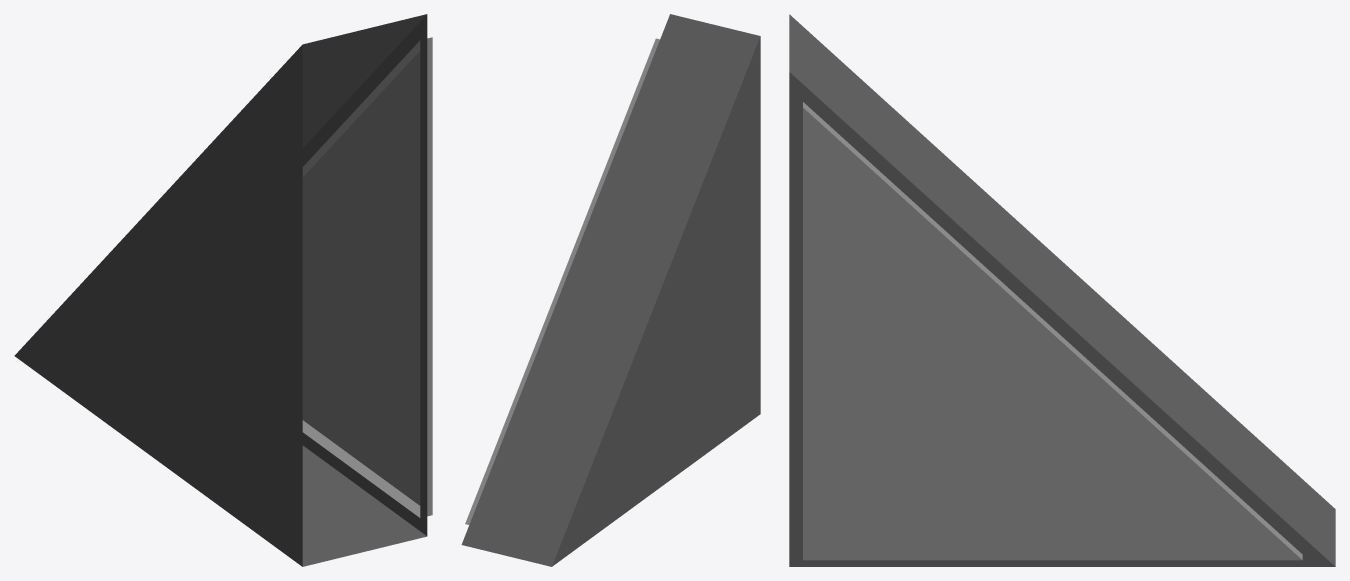
Rendered from Building_Deco_04_Triangle.FBX.
The picture shows the model from 3 angles, left to right: view 1: azimuth 30°, elevation 25°; view 2: azimuth 150°, elevation 25°; view 3: azimuth 270°, elevation 25°; orthographic projection. The views are drawn at different scales.
Parts seen in each view (by area): view 1: Building_Deco_04_Triangle_LOD0; view 2: Building_Deco_04_Triangle_LOD0; view 3: Building_Deco_04_Triangle_LOD0.
Part boxes in pixels (<box>): Building_Deco_04_Triangle_LOD0: <box>14,14,432,566</box>; Building_Deco_04_Triangle_LOD0: <box>461,14,760,566</box>; Building_Deco_04_Triangle_LOD0: <box>789,14,1335,566</box>.
Size of what is drawn, in the model's own units: 49.5 by 180 by 180.
